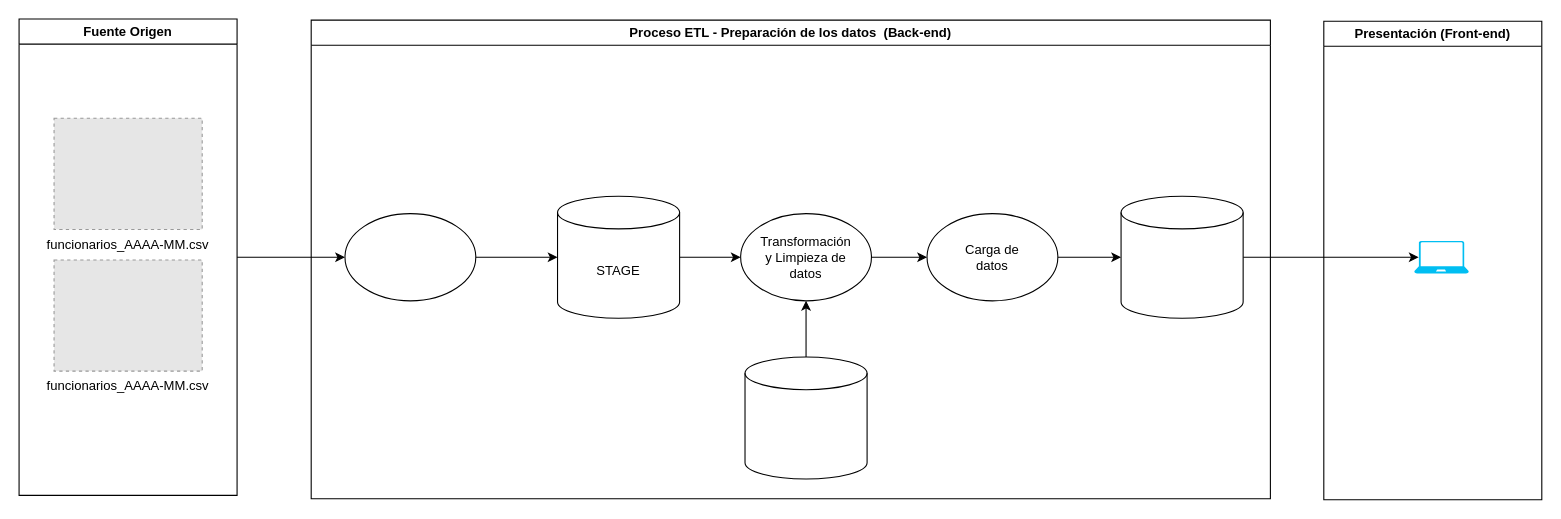
This 1561x519 diagram has some shape labels left out. Grey dashed boxes stand in for pictures. Here are the shapes that lost their labels. From the top down, the centre of each, then its label:
the point at 410,257: Extraccion de datos
the point at 1181,256: DPL
the point at 1441,256: Visualización de los datos
the point at 805,417: ODS
